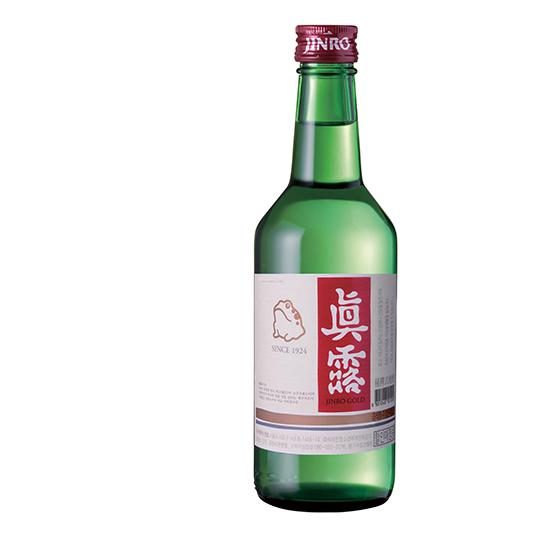soju: (251, 20, 401, 516)
